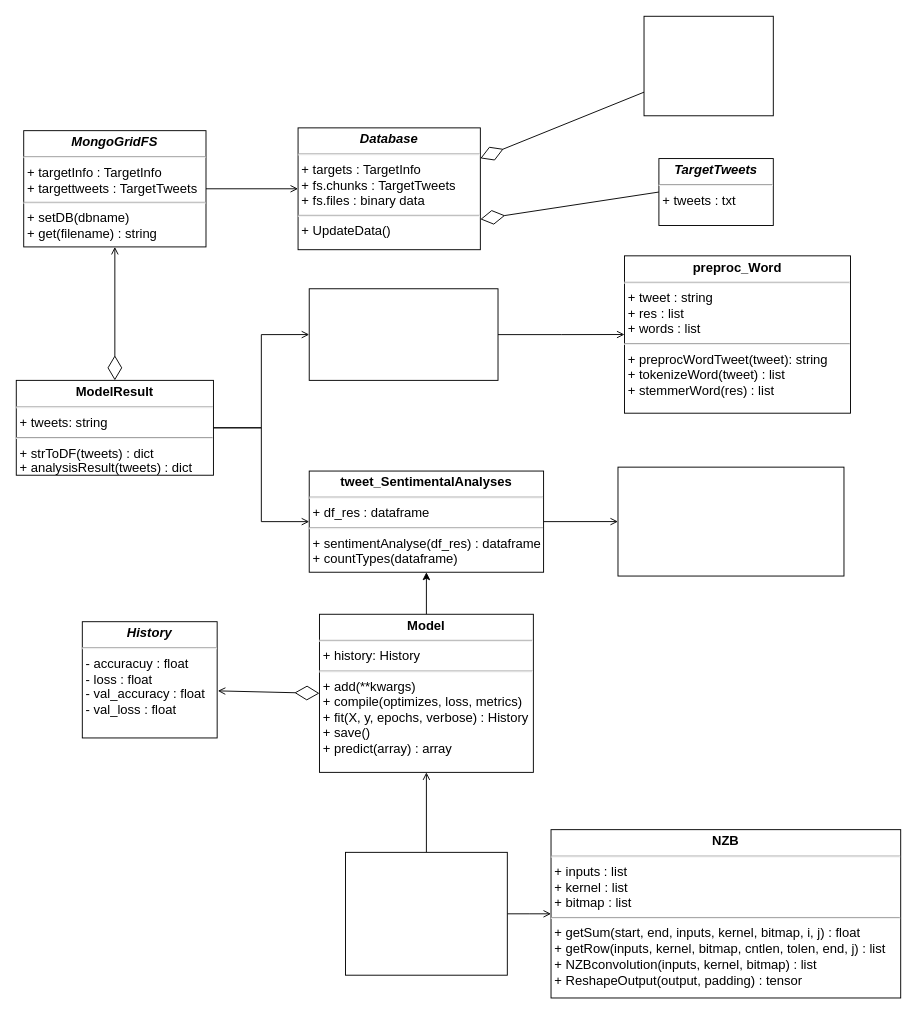
The diagram is 917 pixels wide and 1015 high, and some of its shapes have lost their labels. Here are the shapes that lost their labels. From the top down, the centre of each, then its label:
At [708,65]: "TargetInfo + name : string + account : string + image : string + job : string".
At [403,334]: "word_COUNT + request_id: string + countWord(request_id) : list".
At [730,521]: "preproc_Sentence + tweets : dataframe + preprocTweets(tweets): dataframe".
At [426,913]: "Conv - NZB + addNZB(NZB) + build(input_shape) + call(inputs) : outputs".
